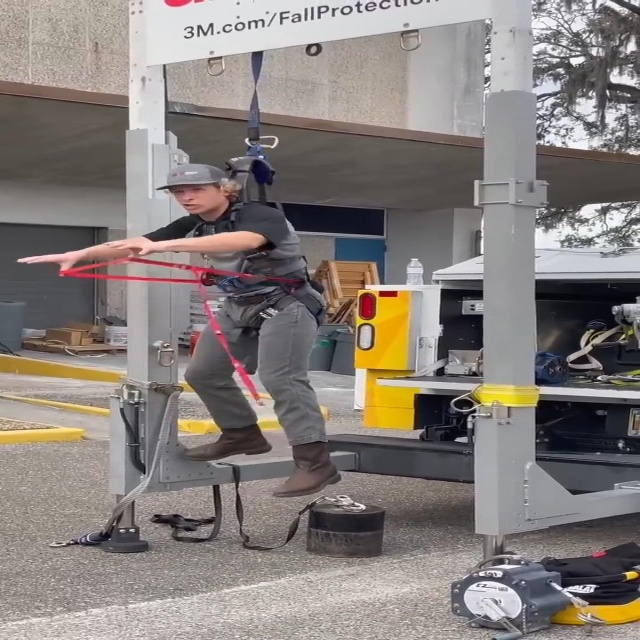Arnes_seguridad: (183, 141, 339, 328)
